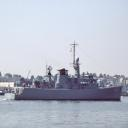Fragata: (5, 40, 125, 102)
